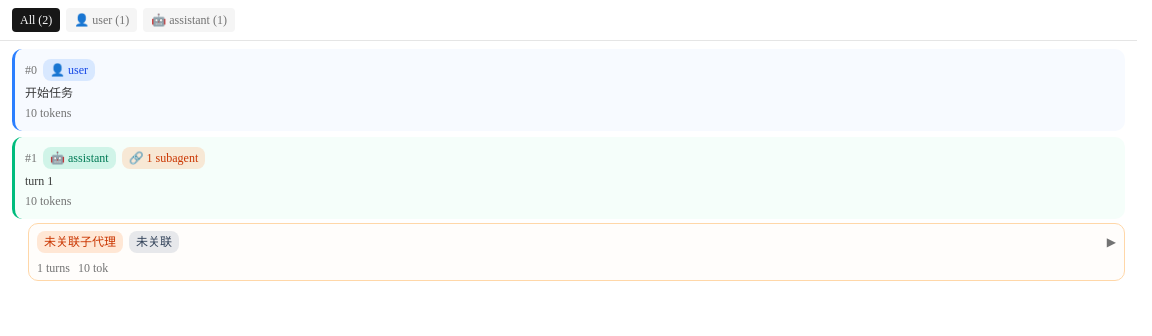
P1 自引用桥：建 lane 前剔除（展开态回归） › 展开孤儿 lane 后无嵌套 b-self lane：toggle 不增殖、turn 内容恰好出现 1 次
Click the button "▶".
click(1111, 242)  # box x1=1107 y1=235 x2=1116 y2=249
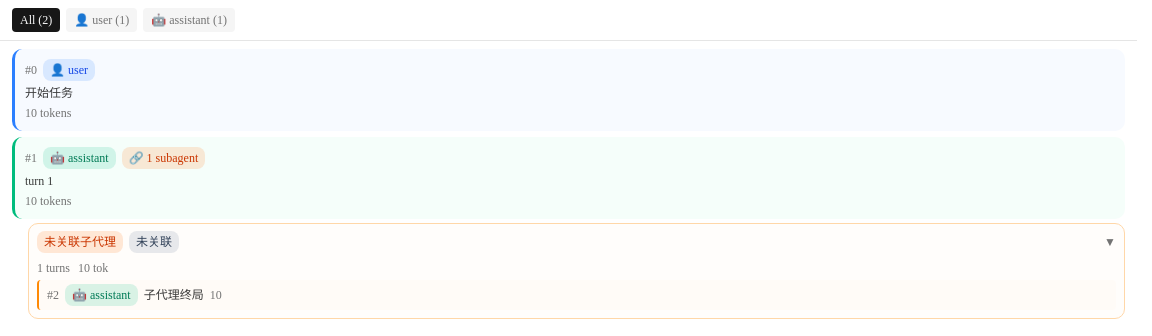
Now the button "▼" is shown, box x1=1104 y1=235 x2=1116 y2=249
